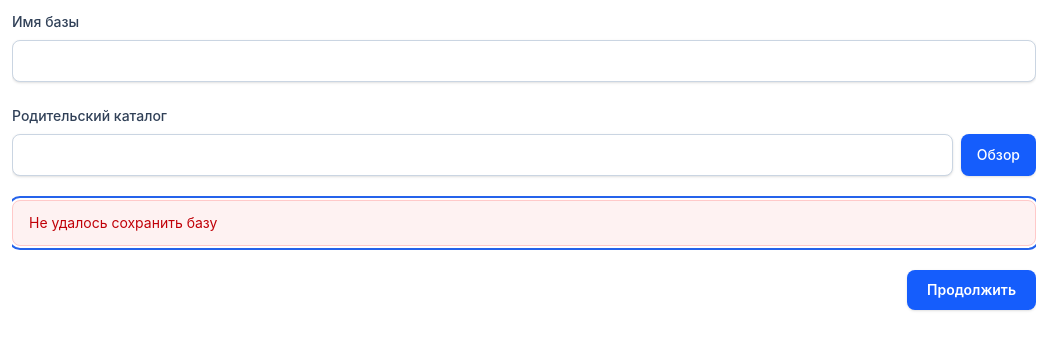
Test: BaseForm › shows a general API alert and a nonblocking directory picker hint
expect the message reads "Не удалось сохранить базу": met, box [29,214,218,231]
Click the button "Обзор". click: click(998, 155)
box: [961,134,1036,176]
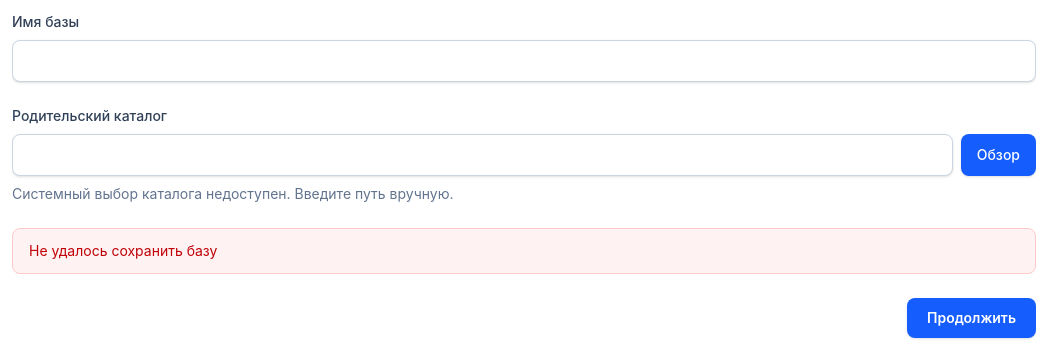
expect the number of messages is 1: met, box [12,228,1036,274]
expect the text "Системный выбор каталога недоступен. Введите путь вручную." is shown: met, box [12,185,454,202]
